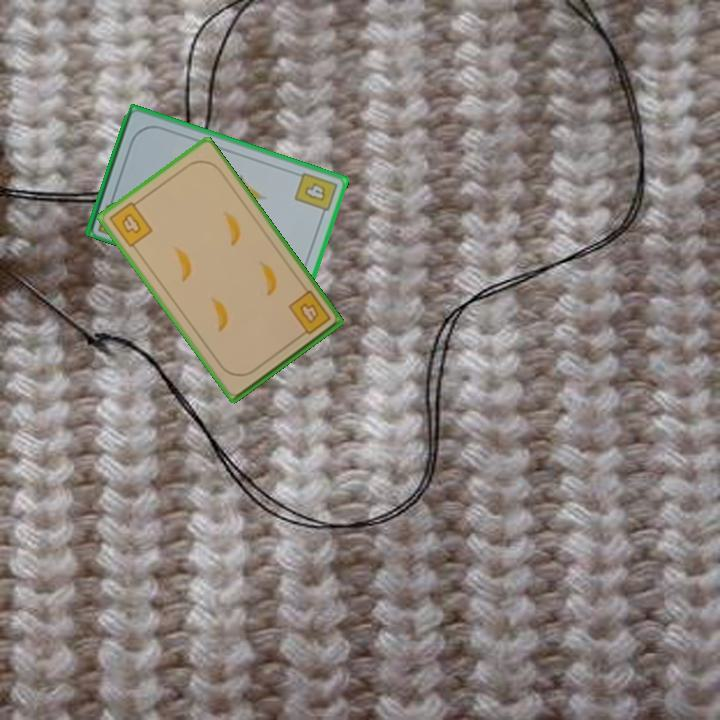4b: (105, 196, 155, 250), (284, 287, 333, 341), (291, 169, 340, 220)
